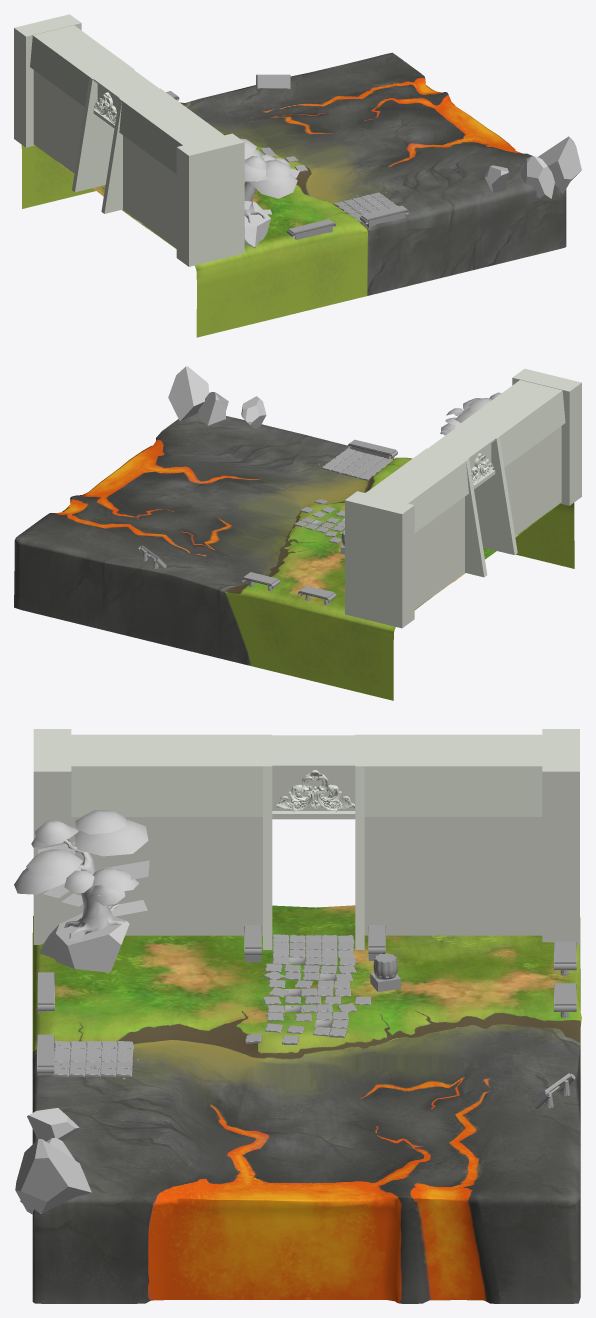
Rendered from level1.fbx.
3 views of the same model, one above another, from view 1: azimuth 30°, elevation 25°; view 2: azimuth 150°, elevation 25°; view 3: azimuth 270°, elevation 25° (orthographic). The views are drawn at different scales.
Visible parts, largest first — view 1: level_zrmsher:Group18639, wall, side_wall, tree2, node_id5, node_id6, node_id4, polySurface64, polySurface63, brokenseat__, node_id7; view 2: level_zrmsher:Group18639, wall, side_wall, node_id5, tree2, node_id6, node_id7, polySurface63; view 3: level_zrmsher:Group18639, wall, side_wall, tree2, node_id5, node_id4, ornament, node_id7, inoic_pillar_shift_II, polySurface63, seat1, polySurface64.
Boxes of the visible parts, x1,y1,x2,y2 form: level_zrmsher:Group18639: [21, 52, 566, 337]; wall: [30, 25, 223, 248]; side_wall: [14, 14, 244, 266]; tree2: [239, 138, 299, 223]; node_id5: [538, 136, 581, 193]; node_id6: [520, 156, 554, 199]; node_id4: [244, 201, 270, 247]; polySurface64: [287, 219, 335, 239]; polySurface63: [360, 205, 408, 227]; brokenseat__: [256, 74, 290, 89]; node_id7: [485, 165, 508, 192]; level_zrmsher:Group18639: [14, 413, 574, 700]; wall: [366, 380, 565, 609]; side_wall: [345, 368, 581, 628]; node_id5: [168, 366, 209, 421]; tree2: [440, 392, 501, 435]; node_id6: [198, 392, 228, 425]; node_id7: [241, 396, 266, 428]; polySurface63: [347, 439, 397, 459]; level_zrmsher:Group18639: [32, 905, 581, 1303]; wall: [71, 734, 542, 949]; side_wall: [33, 729, 579, 944]; tree2: [14, 810, 149, 941]; node_id5: [15, 1139, 91, 1214]; node_id4: [39, 913, 129, 972]; ornament: [275, 770, 354, 811]; node_id7: [27, 1108, 79, 1141]; inoic_pillar_shift_II: [370, 953, 400, 991]; polySurface63: [37, 1034, 54, 1075]; seat1: [554, 941, 576, 975]; polySurface64: [37, 972, 54, 1014].
Size of the model in its own units: 2410 by 1050 by 1886.
